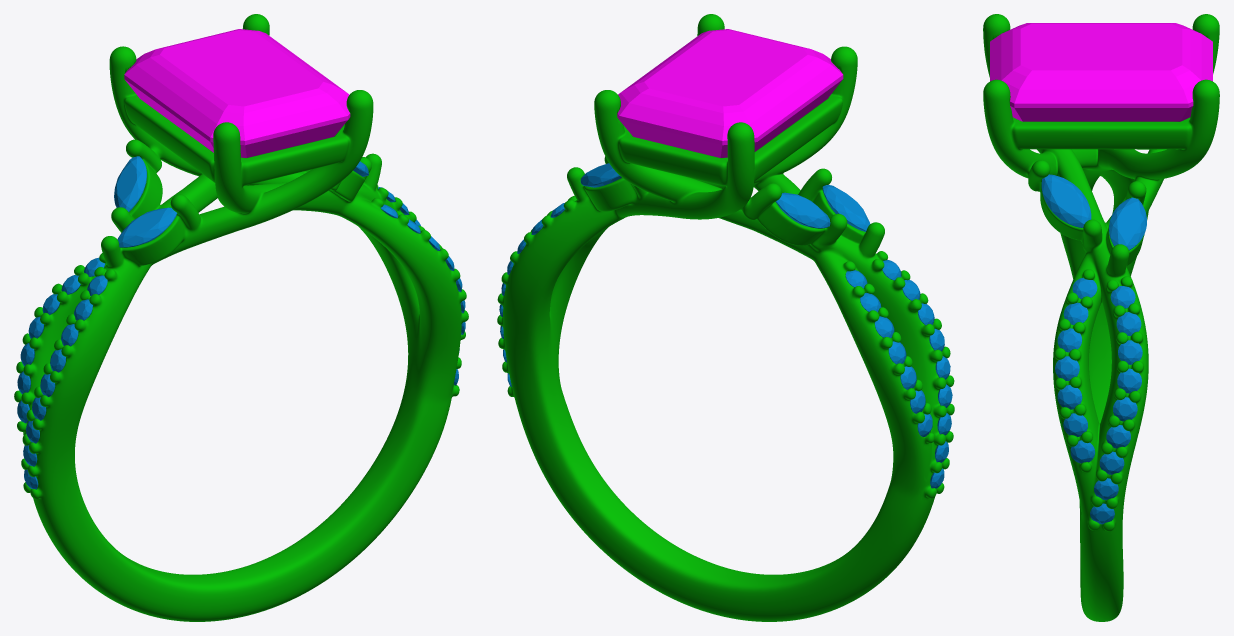
The model's file is BE104BS_EM_200ct_RENDER.glb.
3 renders of one model, left to right at view 1: azimuth 30°, elevation 25°; view 2: azimuth 150°, elevation 25°; view 3: azimuth 270°, elevation 25°, orthographic.
Visible parts, largest first — view 1: Metal 01, CS_Diamond_Emerald, Sapphire_Blue, Sapphire_Blue.002; view 2: Metal 01, CS_Diamond_Emerald, Sapphire_Blue.002, Sapphire_Blue, Sapphire_Blue.001; view 3: Metal 01, CS_Diamond_Emerald, Sapphire_Blue.003, Sapphire_Blue.001, Diamond_Round_Gem_SH.026, Diamond_Round_Gem_SH.027, Diamond_Round_Gem_SH.029, Diamond_Round_Gem_SH.028, Diamond_Round_Gem_SH.021, Diamond_Round_Gem_SH.022, Diamond_Round_Gem_SH.030, Diamond_Round_Gem_SH.025 (+8 smaller).
Boxes of the visible parts, bbox=[...] form: Metal 01: bbox=[14, 14, 468, 621]; CS_Diamond_Emerald: bbox=[124, 29, 350, 157]; Sapphire_Blue: bbox=[117, 207, 177, 247]; Sapphire_Blue.002: bbox=[114, 156, 146, 211]; Metal 01: bbox=[497, 14, 954, 621]; CS_Diamond_Emerald: bbox=[617, 29, 843, 157]; Sapphire_Blue.002: bbox=[775, 192, 830, 228]; Sapphire_Blue: bbox=[822, 185, 870, 231]; Sapphire_Blue.001: bbox=[580, 163, 621, 187]; Metal 01: bbox=[983, 14, 1219, 621]; CS_Diamond_Emerald: bbox=[990, 23, 1212, 121]; Sapphire_Blue.003: bbox=[1041, 174, 1091, 227]; Sapphire_Blue.001: bbox=[1109, 197, 1146, 250]; Diamond_Round_Gem_SH.026: bbox=[1057, 385, 1082, 409]; Diamond_Round_Gem_SH.027: bbox=[1117, 368, 1141, 393]; Diamond_Round_Gem_SH.029: bbox=[1055, 356, 1079, 380]; Diamond_Round_Gem_SH.028: bbox=[1118, 340, 1142, 364]; Diamond_Round_Gem_SH.021: bbox=[1113, 397, 1137, 421]; Diamond_Round_Gem_SH.022: bbox=[1116, 312, 1141, 335]; Diamond_Round_Gem_SH.030: bbox=[1057, 328, 1082, 352]; Diamond_Round_Gem_SH.025: bbox=[1063, 413, 1087, 436].
Bounding box in the file's own units: 20.64 × 24.58 × 9.56.
